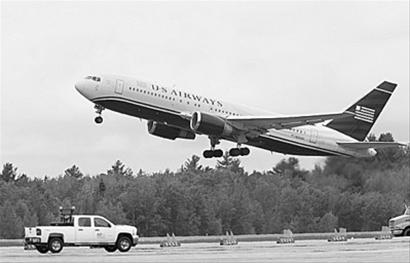airplane: (73, 69, 410, 166)
